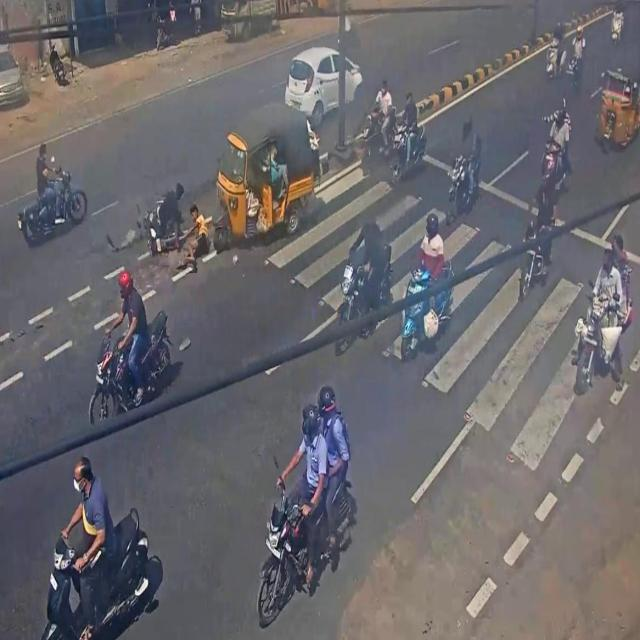accident: (103, 104, 321, 283)
